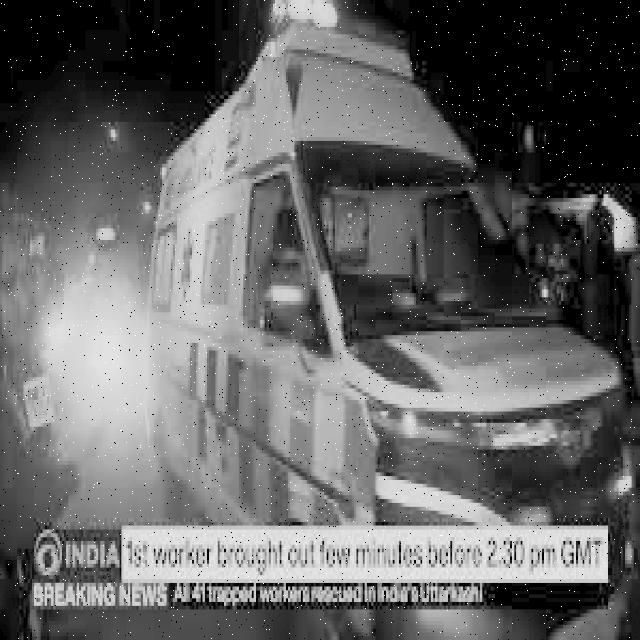Ambulance: (146, 15, 628, 556)
